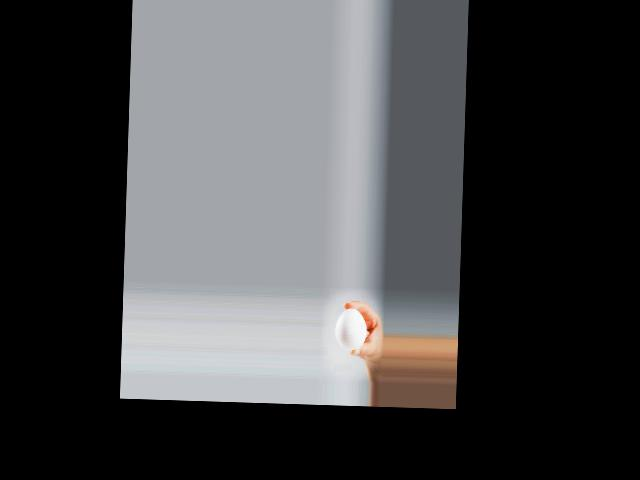egg: (335, 307, 366, 350)
